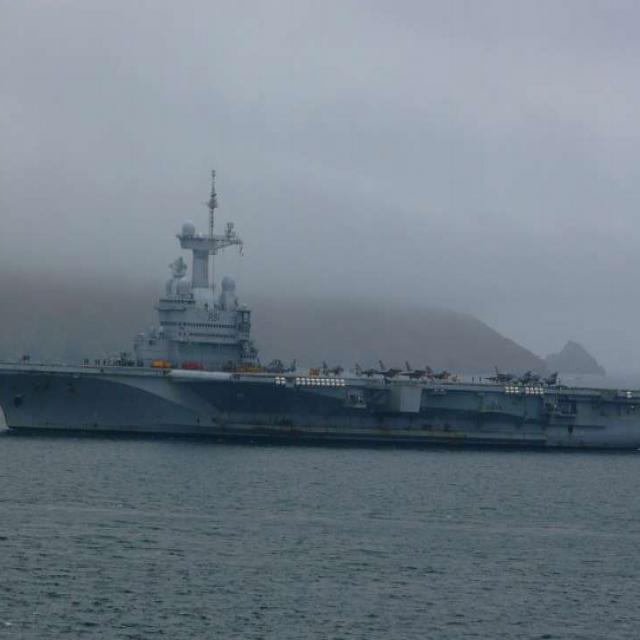Portanaves: (1, 167, 640, 457)
